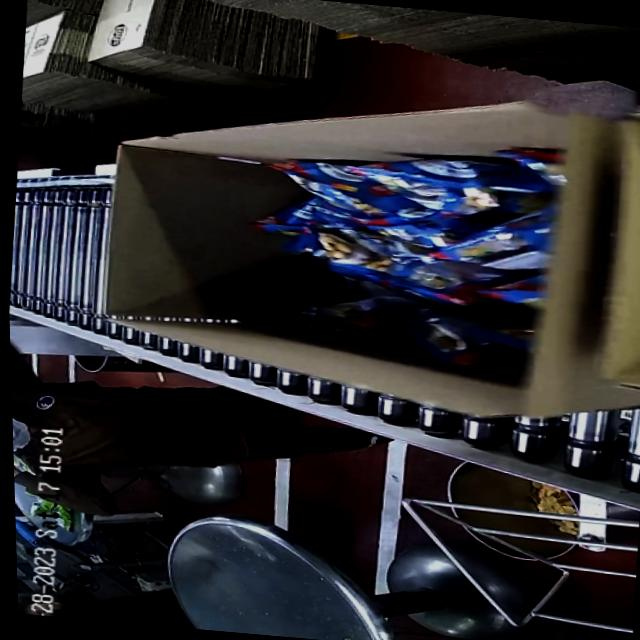PAPRIKA: (228, 130, 552, 363)
